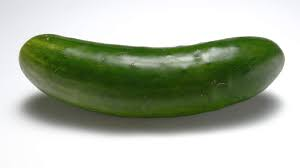cucumber: (16, 27, 283, 117)
